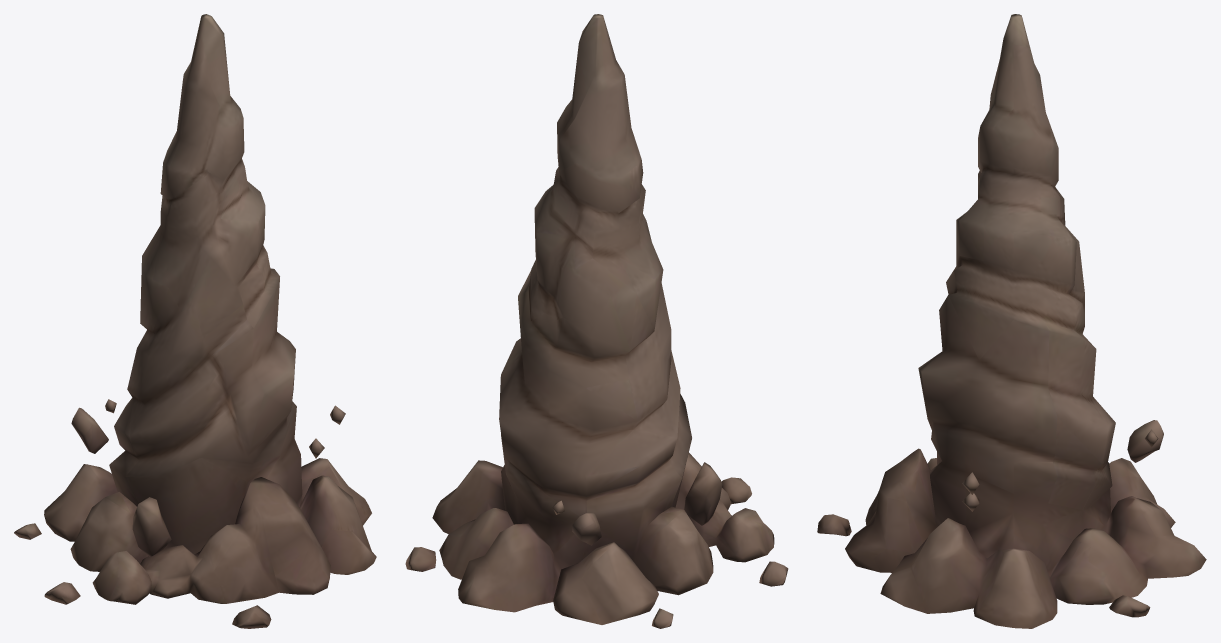
The model's file is spike.glb.
The picture shows the model from 3 angles, left to right: view 1: azimuth 30°, elevation 25°; view 2: azimuth 150°, elevation 25°; view 3: azimuth 270°, elevation 25°; orthographic projection.
Visible parts, largest first — view 1: spike; view 2: spike; view 3: spike.
Part boxes in pixels (<box>): spike: <box>14,14,376,628</box>; spike: <box>405,14,788,628</box>; spike: <box>817,14,1206,628</box>.
Bounding box in the file's own units: 1.05 × 1.6 × 1.05.
1 material, 1 textured.
